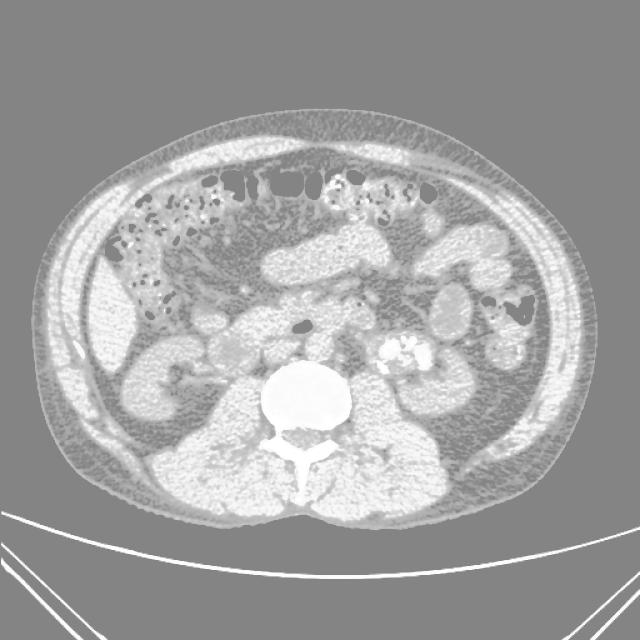STONE: (118, 152, 470, 370)
